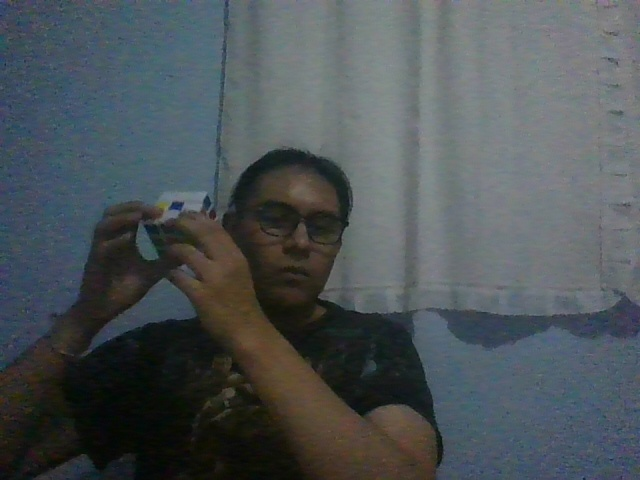rubik: (143, 191, 218, 265)
